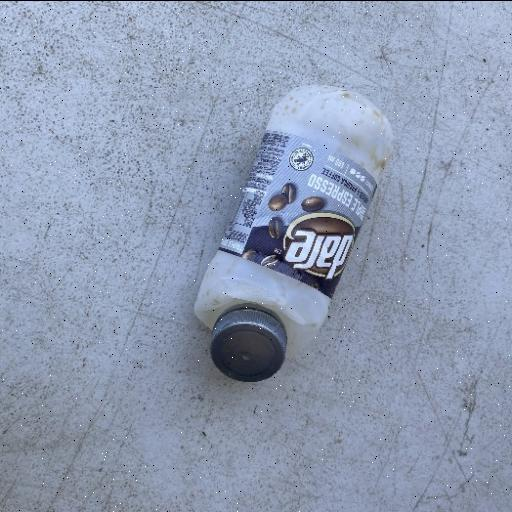Plastic: (190, 82, 396, 385)
